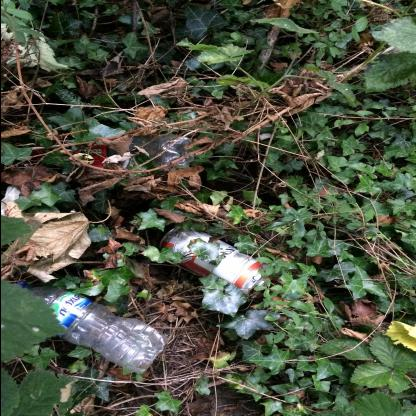metal: (158, 224, 262, 290)
plastik: (14, 282, 166, 376)
